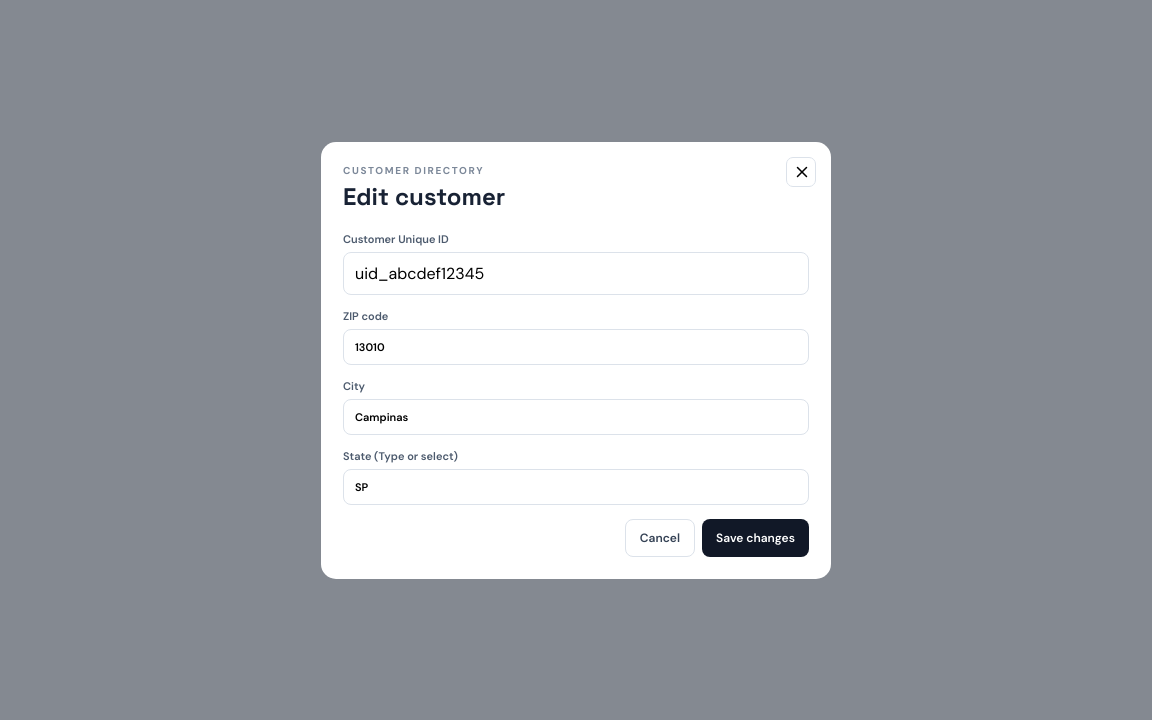
Test: CustomerModal Component › handles save rejection and displays error
Click the button "Save changes" at x=756, y=538, box [702,518,809,556]
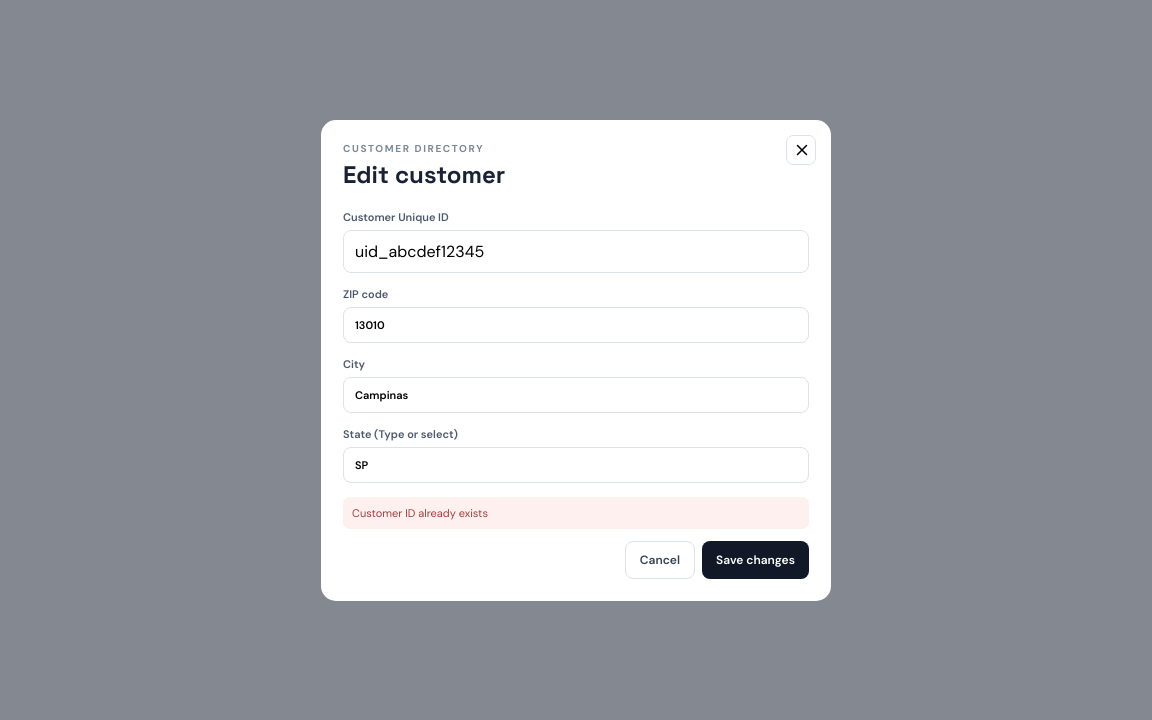
Now the text "Customer ID already exists" is shown, box [343,496,809,528]
